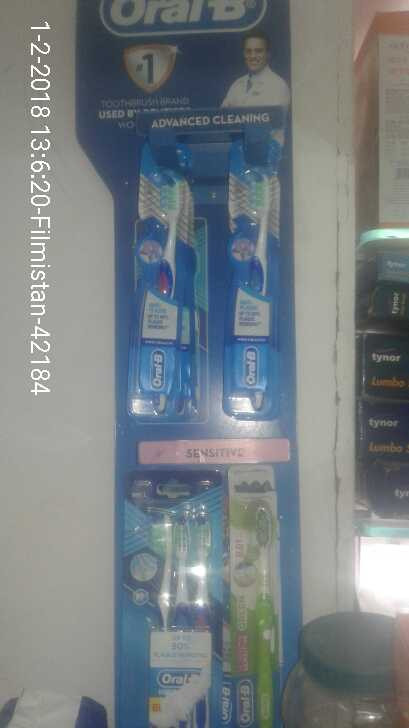oralb: (131, 472, 216, 728), (223, 478, 281, 728), (227, 167, 282, 418), (133, 167, 190, 408)
